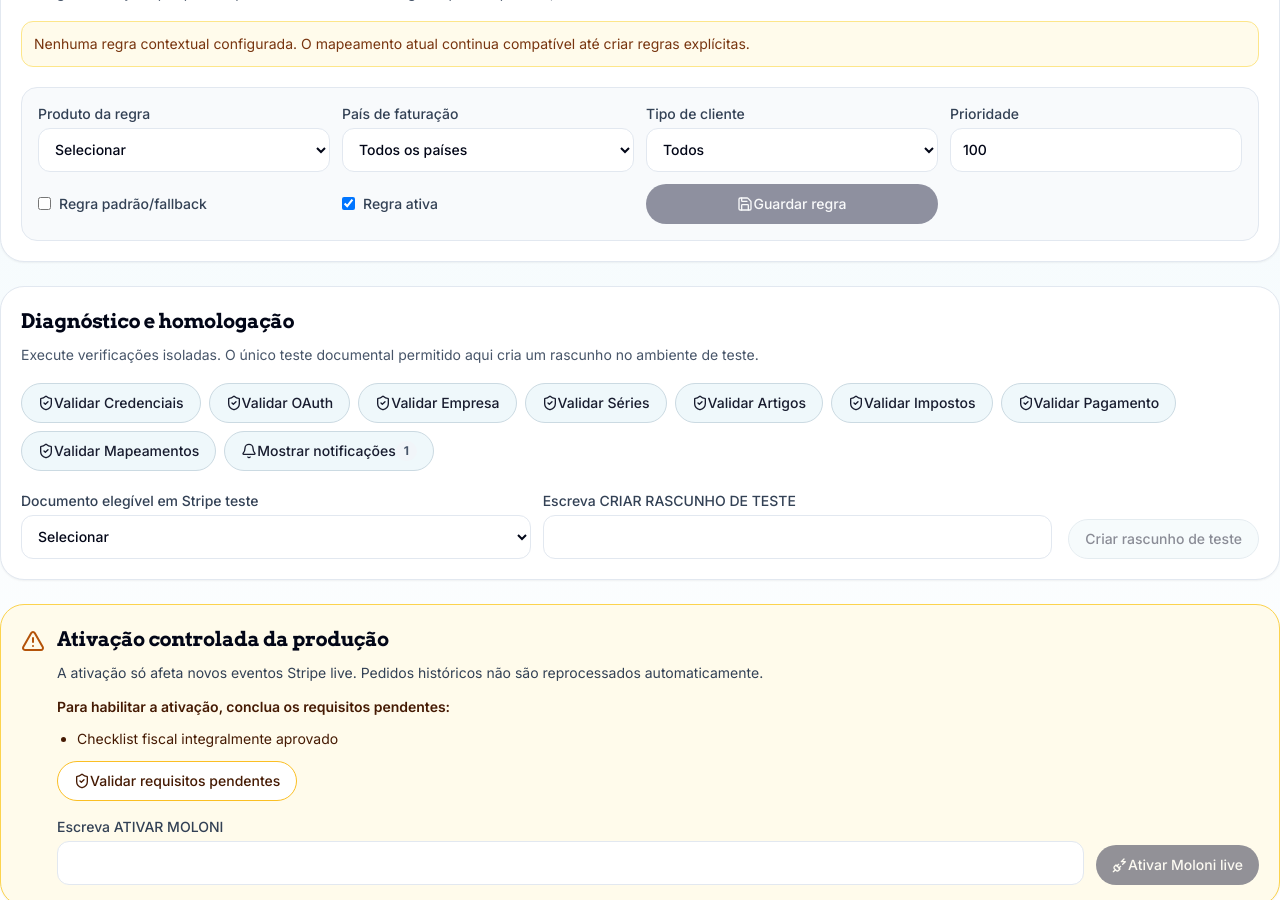
AdminMoloni › shows validation notifications when requested
The image size is (1280, 900).
(page scrolled)
Expected: the text "A série configurada não foi confirmada na Moloni." is not shown
Step 1. Click the button "Mostrar notificações 1" → (329, 450), box [224,430,434,470]
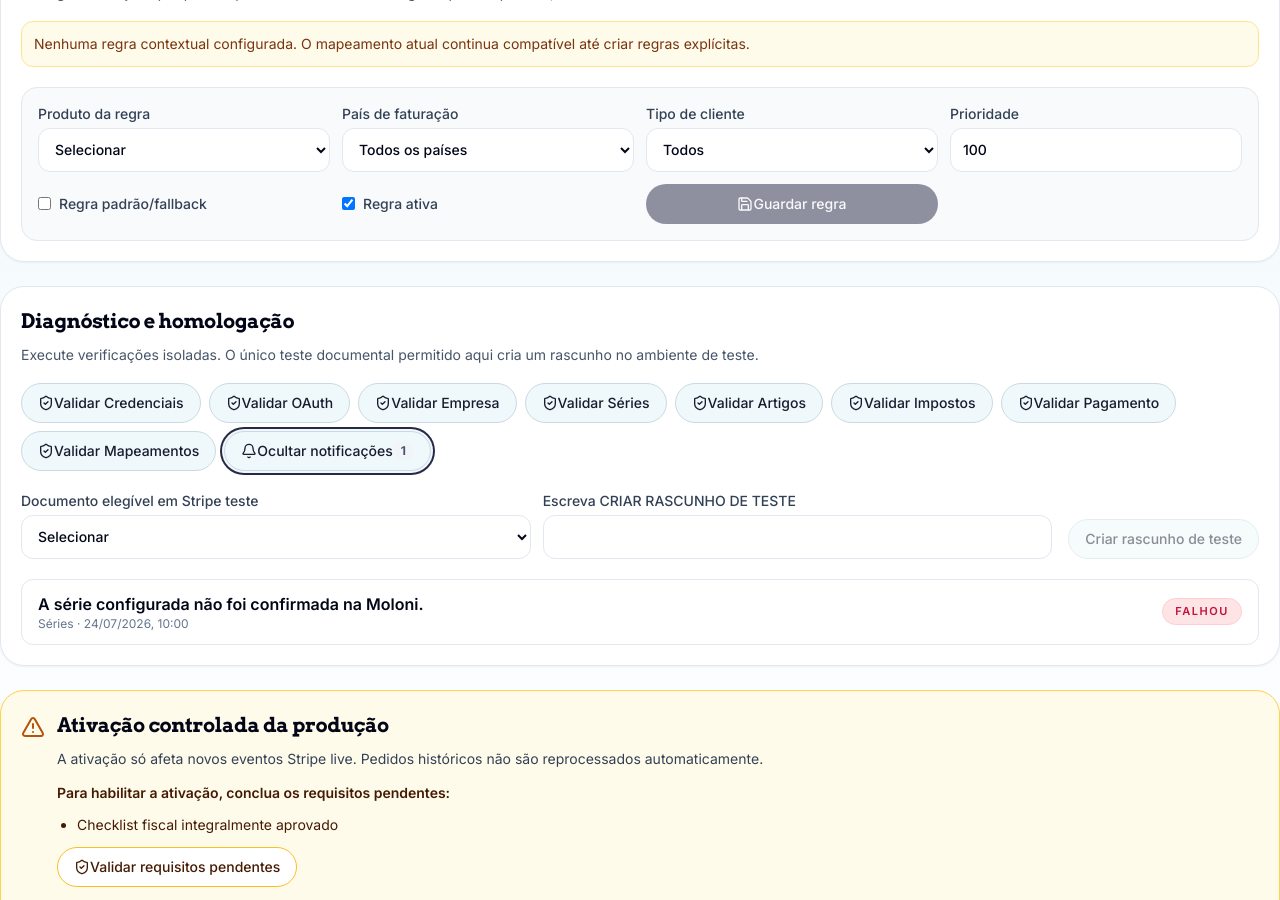
Expected: the text "A série configurada não foi confirmada na Moloni." is shown, [38,592,424,616]
Expected: the button "Ocultar notificações 1" is expanded, [224,430,431,470]
